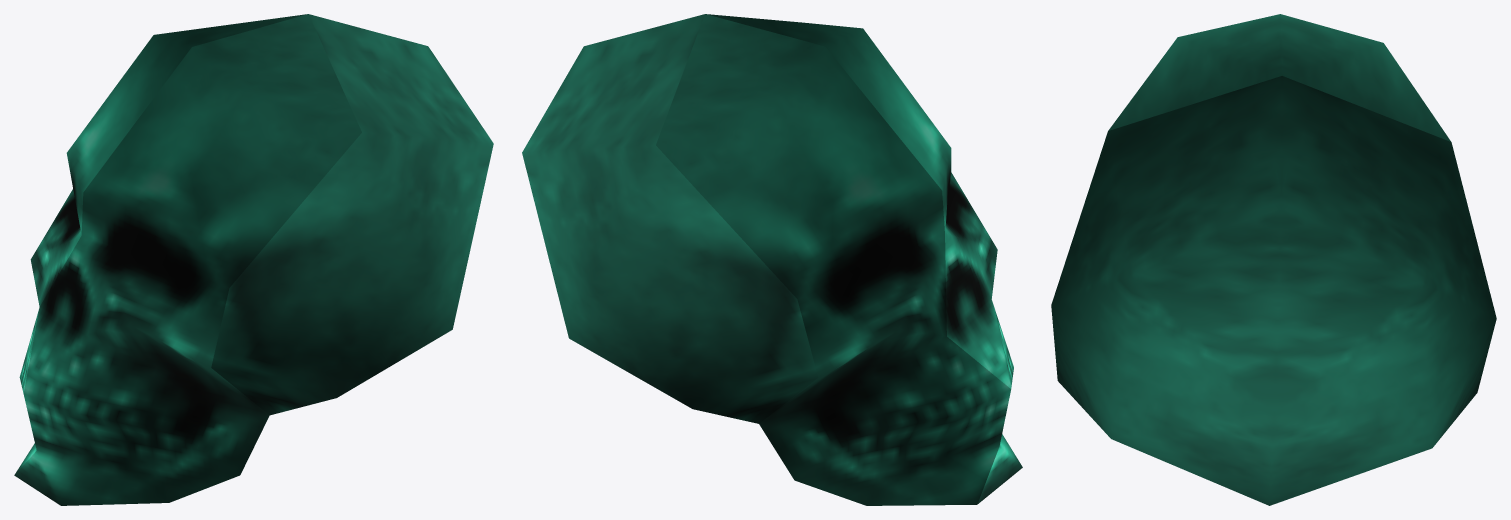
The model's file is VIFS12.obj.
3 views of the same model, side by side, from view 1: azimuth 30°, elevation 25°; view 2: azimuth 150°, elevation 25°; view 3: azimuth 270°, elevation 25° (orthographic). The views are drawn at different scales.
Visible parts, largest first — view 1: VIFS12; view 2: VIFS12; view 3: VIFS12.
Part boxes in pixels (bbox=[...]): VIFS12: bbox=[14, 14, 493, 505]; VIFS12: bbox=[522, 14, 1022, 505]; VIFS12: bbox=[1051, 14, 1496, 505].
Bounding box in the file's own units: 9.88 × 8.31 × 7.1.
